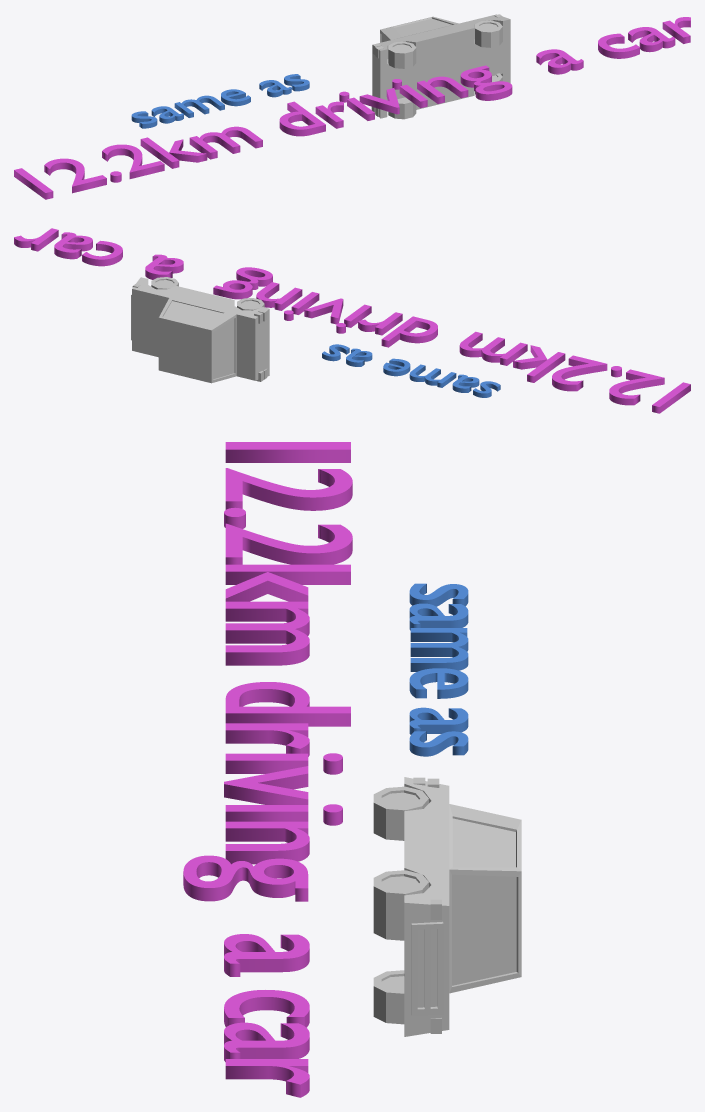
The model's file is cartext.gltf.
The picture shows the model from 3 angles, top to bottom: view 1: azimuth 30°, elevation 25°; view 2: azimuth 150°, elevation 25°; view 3: azimuth 270°, elevation 25°; orthographic projection. The views are drawn at different scales.
Parts seen in each view (by area): view 1: Text, Cube_Cube.001, Text.001, Cylinder.001_Cylinder.017, Cylinder.000_Cylinder.015; view 2: Text, Cube_Cube.001, Text.001; view 3: Text, Cube_Cube.001, Text.001, Cylinder.000_Cylinder.015, Cylinder.001_Cylinder.017.
Boxes of the visible parts, x1=… form: Text: x1=14, y1=17, x2=690, y2=199; Cube_Cube.001: x1=371, y1=14, x2=510, y2=118; Text.001: x1=131, y1=74, x2=309, y2=128; Cylinder.001_Cylinder.017: x1=388, y1=41, x2=416, y2=119; Cylinder.000_Cylinder.015: x1=475, y1=20, x2=502, y2=94; Text: x1=14, y1=228, x2=690, y2=413; Cube_Cube.001: x1=131, y1=277, x2=269, y2=383; Text.001: x1=322, y1=344, x2=500, y2=397; Text: x1=183, y1=442, x2=352, y2=1097; Cube_Cube.001: x1=404, y1=777, x2=521, y2=1036; Text.001: x1=409, y1=583, x2=468, y2=756; Cylinder.000_Cylinder.015: x1=373, y1=870, x2=428, y2=1024; Cylinder.001_Cylinder.017: x1=373, y1=786, x2=428, y2=940.
Size of the model in its own units: 8.28 by 0.8079 by 1.84.
